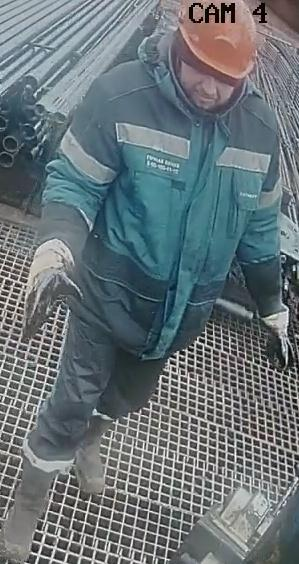gloves: (21, 238, 83, 340), (258, 304, 294, 371)
helmet: (177, 1, 265, 80)
vest: (66, 52, 282, 361)
